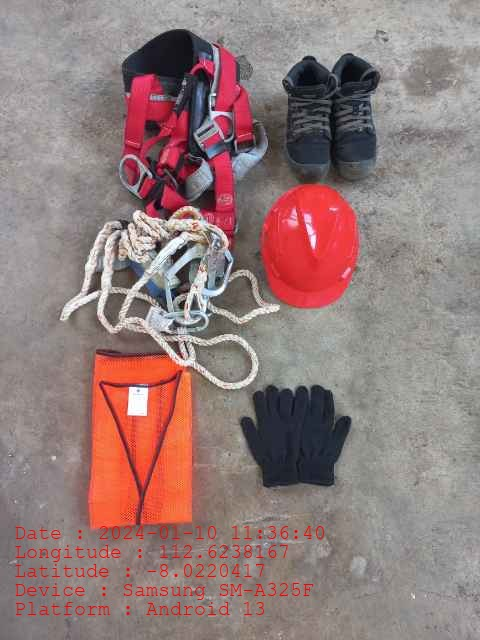HELM: (260, 183, 359, 309)
ROMPI: (89, 350, 195, 524)
SARUNG_TANGAN: (239, 384, 306, 490)
SEPATU: (284, 51, 378, 183)
TAMBANG_SLING: (58, 206, 264, 349)
